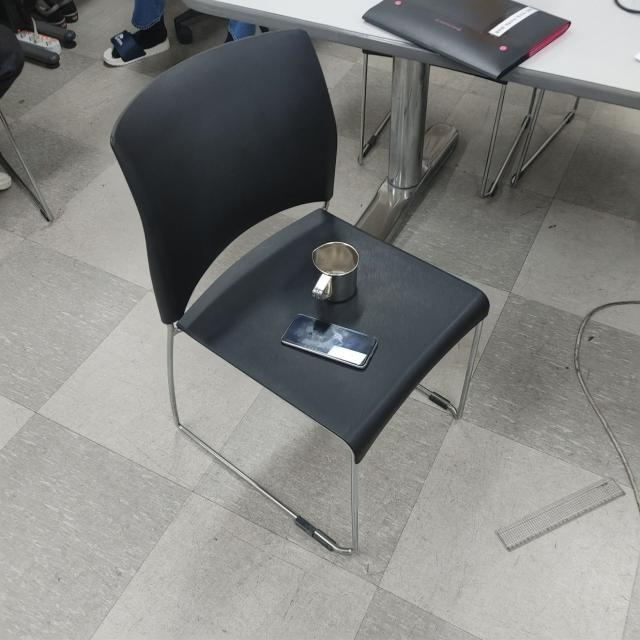cup: (308, 238, 361, 307)
phone: (279, 314, 380, 373)
